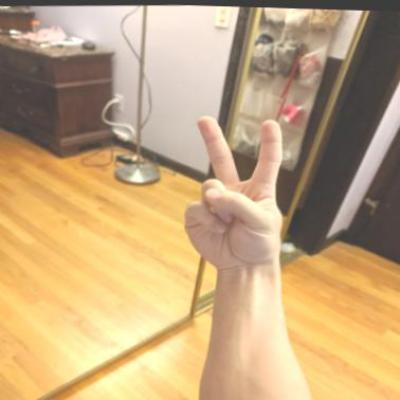hand: (177, 108, 293, 274)
